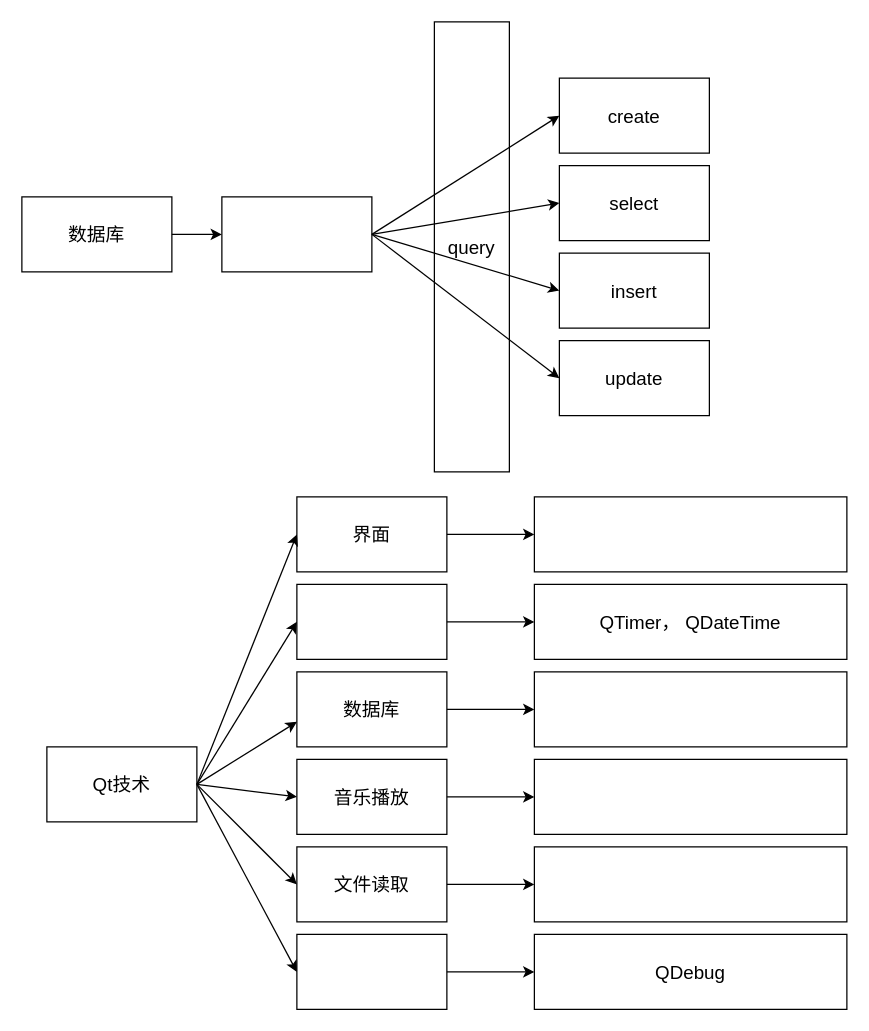
Some shapes in this 869 by 1031 pixel diagram are drawn without their labels. The centre of each missing label's shape, as x and y in pixels:
QFileDialog: point (690, 884)
QMediaPlayer，QMediaPlaylist: point (690, 796)
QSqlDatabase，QSqlQuery: point (690, 709)
QTableWidget，QMessageBox: point (690, 534)
SqLite: point (296, 234)
运行调试: point (371, 971)
闹钟: point (371, 621)
